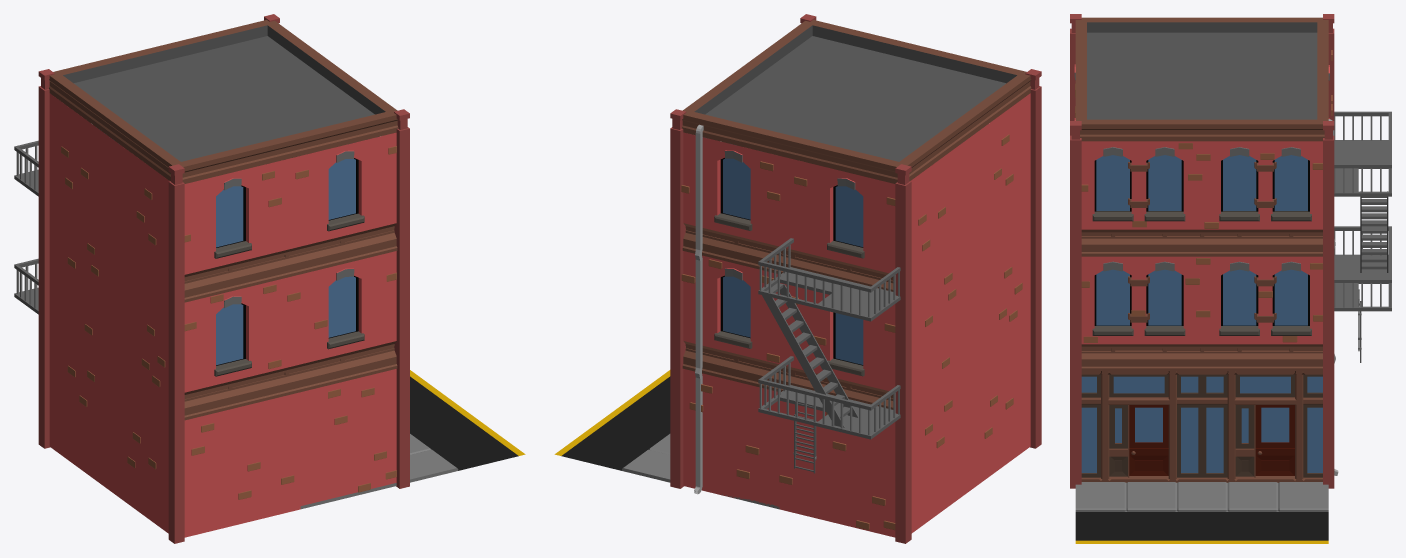
Rendered from Buildings.glb.
The picture shows the model from 3 angles, left to right: view 1: azimuth 30°, elevation 25°; view 2: azimuth 150°, elevation 25°; view 3: azimuth 270°, elevation 25°; orthographic projection. The views are drawn at different scales.
Visible parts, largest first — view 1: Single Object; view 2: Single Object; view 3: Single Object.
Part boxes in pixels (bbox=[...]): Single Object: bbox=[14, 14, 525, 543]; Single Object: bbox=[554, 14, 1041, 543]; Single Object: bbox=[1070, 14, 1391, 543].
Size of the model in its own units: 3.15 by 3.17 by 2.55.
